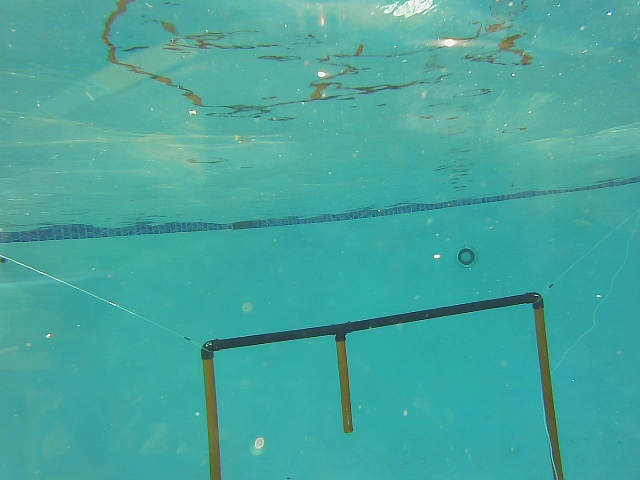Gate: (529, 303, 568, 479), (199, 352, 225, 480), (333, 337, 357, 436)
